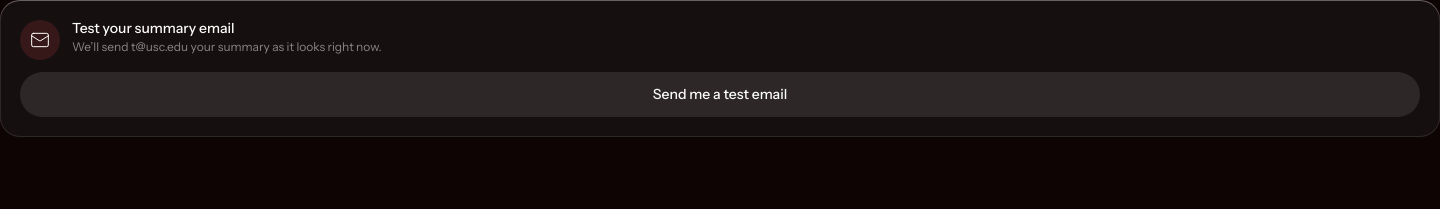
Scenario: test email button › shows the server's reason when sending fails
The image size is (1440, 209).
Click the button "Send me a test email" at (720, 94), box [20, 72, 1420, 117]
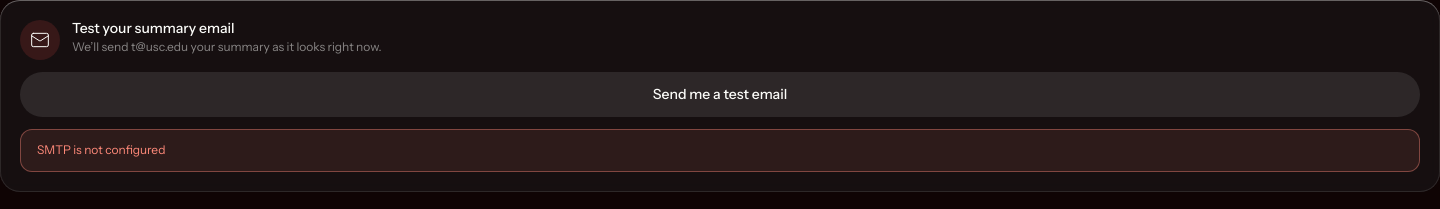
Expected: the text "SMTP is not configured" is shown, [20, 129, 1420, 172]
